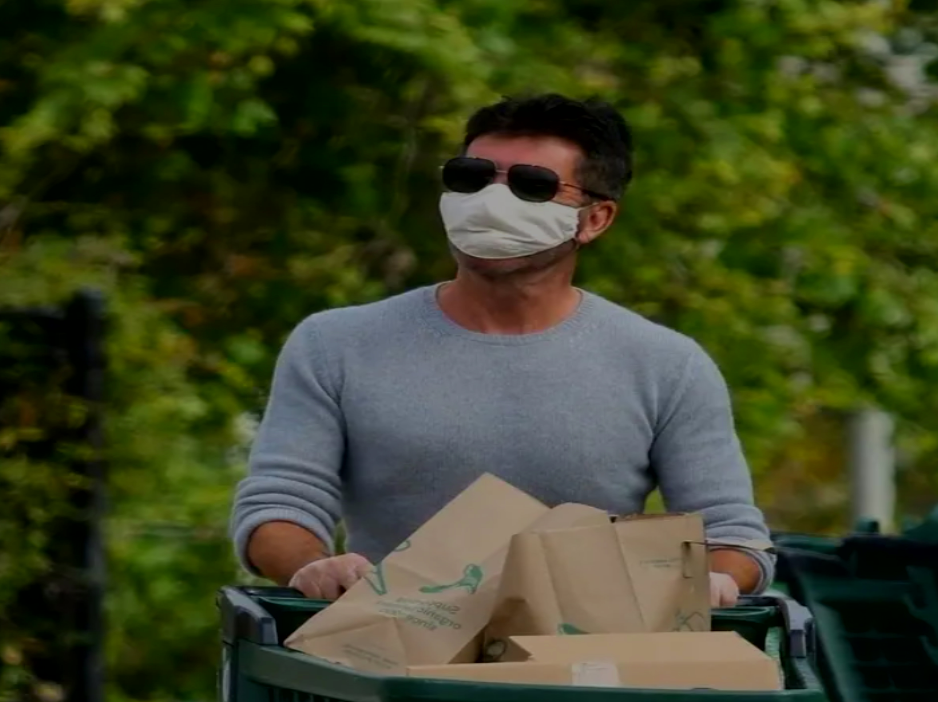mask_weared_incorrect: (430, 98, 636, 280)
